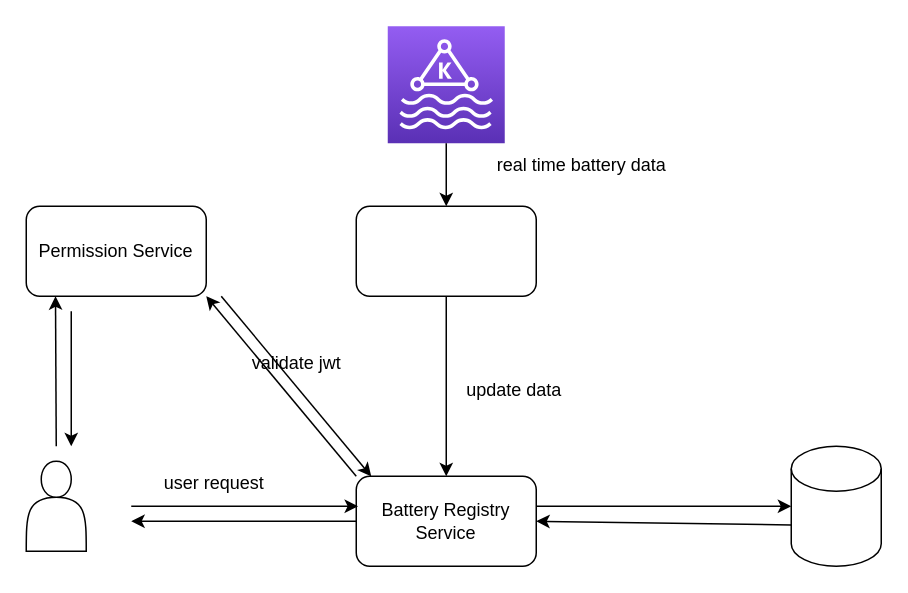
The diagram is 908 pixels wide and 593 high, and some of its shapes have lost their labels. Each missing label, with the centre of its shape:
"Battery DB" goes at point (835, 505).
"Battery-Sync-Service" goes at point (445, 250).
